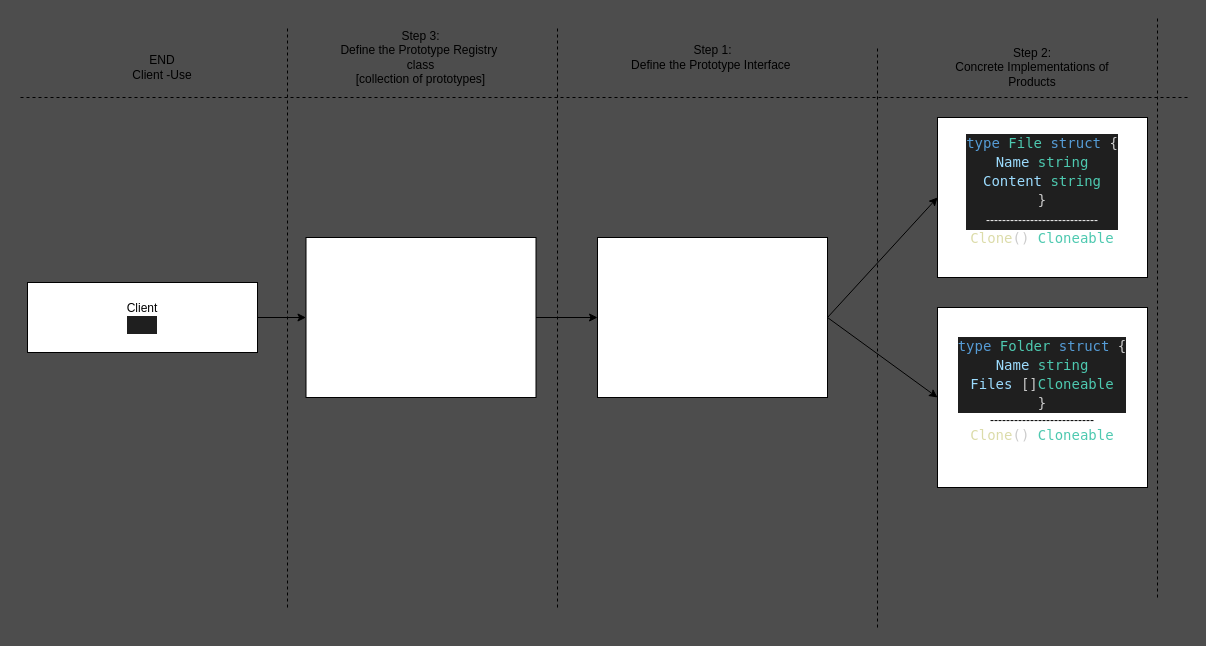
Some shapes in this 1206 by 646 pixel diagram are drawn without their labels. The centre of each missing label's shape, as x and y in pixels:
"type Cloneable interface { Clone () Cloneable }" belongs at point 712,317.
"type FileSystem struct { Prototypes map [ string ] Cloneable }" belongs at point 420,317.
